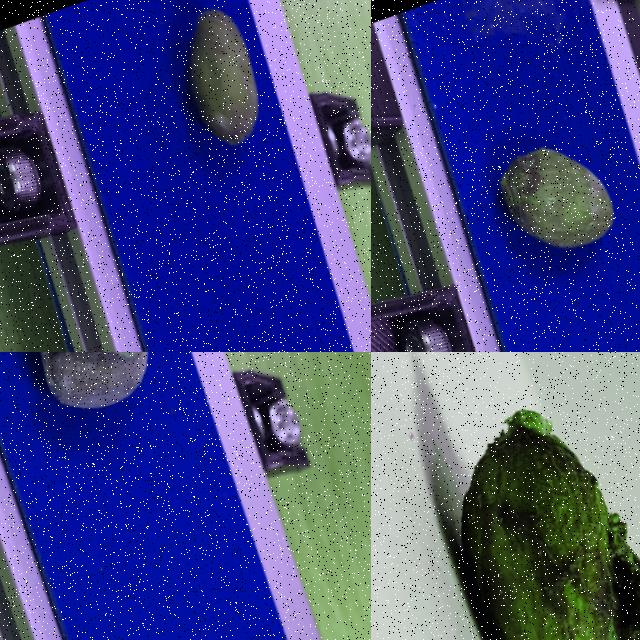Agglomerated_cocoabeans: (371, 352, 639, 639), (0, 352, 224, 524)
Fine_cocoabeans: (416, 41, 639, 351), (123, 0, 340, 236)
